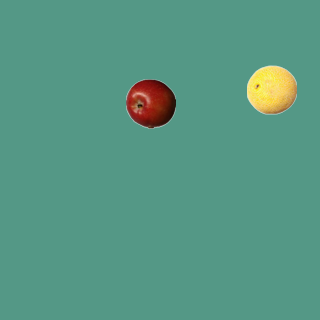Apple Braeburn: (125, 78, 175, 128)
Cantaloupe 1: (246, 64, 296, 114)
